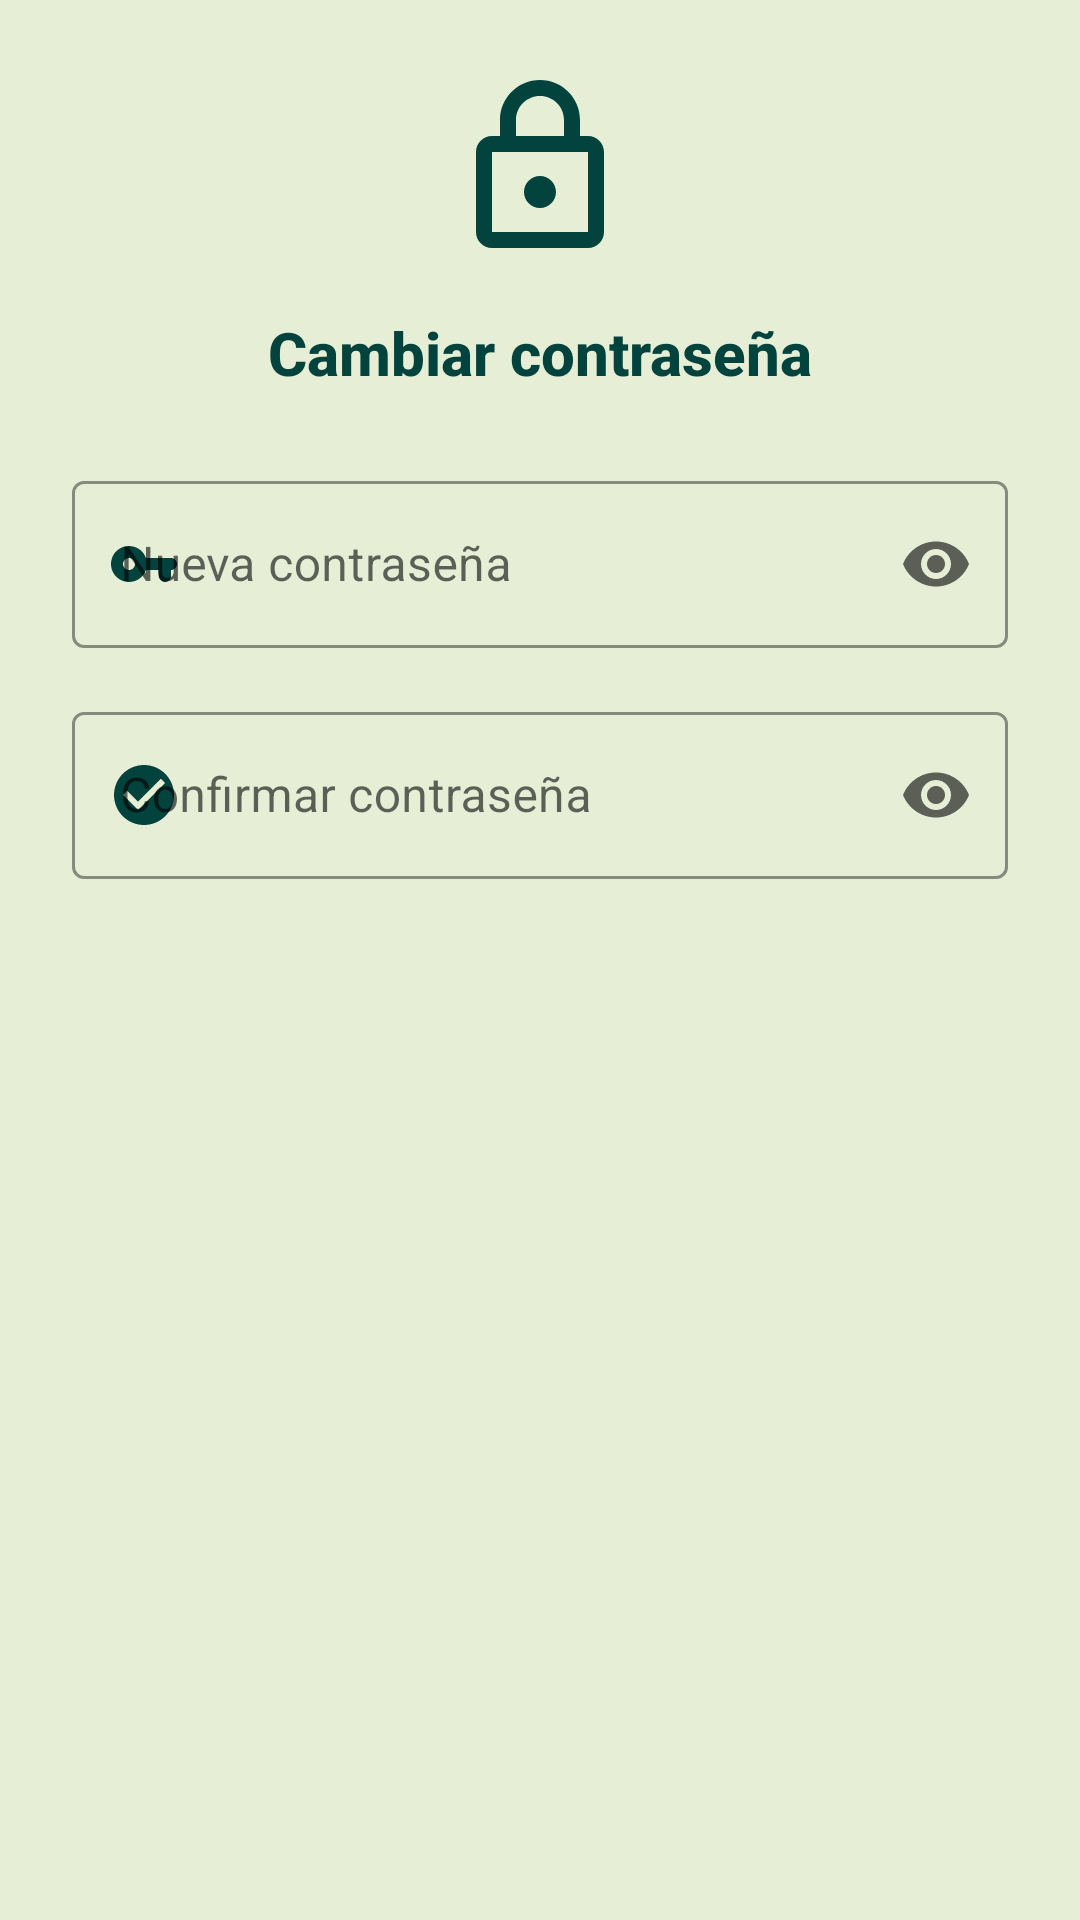

Screen size 1080 × 1920. Icon name, then its box in pixels as [x1,y1,x2,y2]:
Icono de candado: [476,80,604,248]
